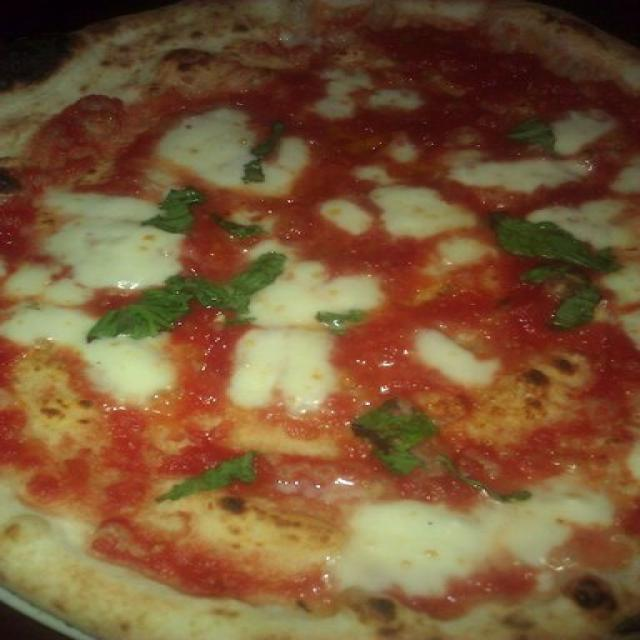Basil: (354, 398, 529, 501), (89, 256, 283, 337), (497, 220, 612, 326), (157, 448, 253, 499), (243, 122, 281, 183), (149, 191, 198, 237), (316, 307, 360, 333), (515, 120, 555, 148), (215, 218, 261, 238)
Pizza: (0, 0, 640, 640)
